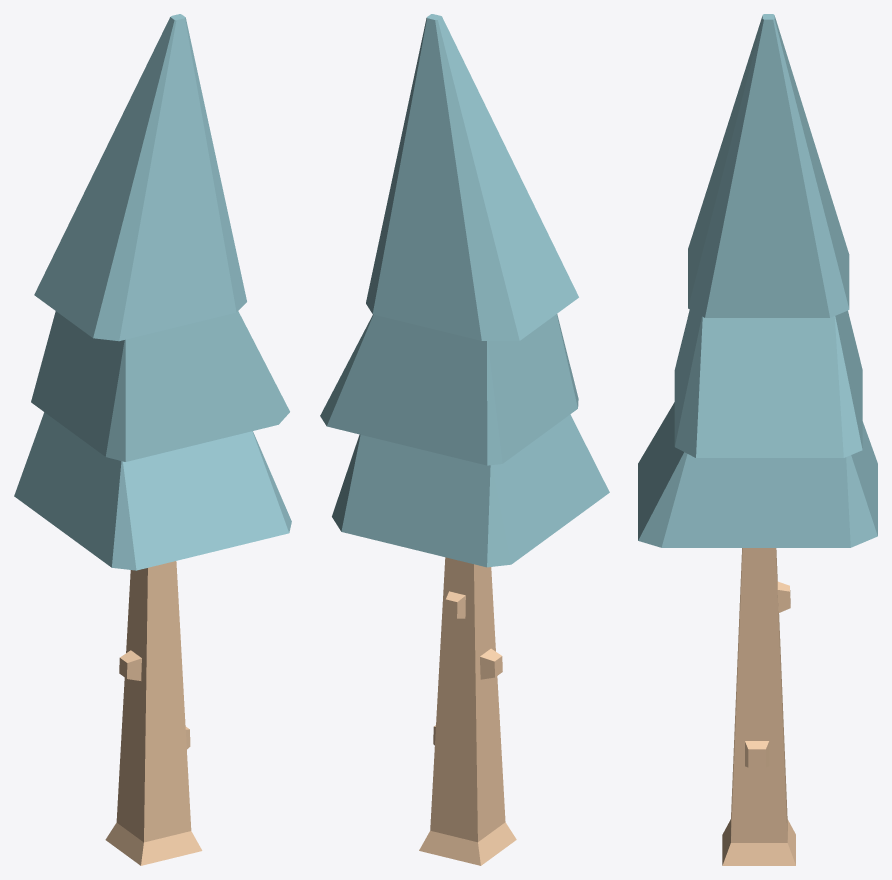
The model's file is tree_pine_shortSquare_detailed.glb.
The picture shows the model from 3 angles, left to right: view 1: azimuth 30°, elevation 25°; view 2: azimuth 150°, elevation 25°; view 3: azimuth 270°, elevation 25°; orthographic projection. The views are drawn at different scales.
Visible parts, largest first — view 1: tree_pine_shortSquare_detailed; view 2: tree_pine_shortSquare_detailed; view 3: tree_pine_shortSquare_detailed.
Boxes of the visible parts, x1=… form: tree_pine_shortSquare_detailed: x1=14, y1=14, x2=291, y2=865; tree_pine_shortSquare_detailed: x1=320, y1=14, x2=609, y2=865; tree_pine_shortSquare_detailed: x1=638, y1=14, x2=877, y2=865.
Bounding box in the file's own units: 0.3863 × 1.53 × 0.392.
